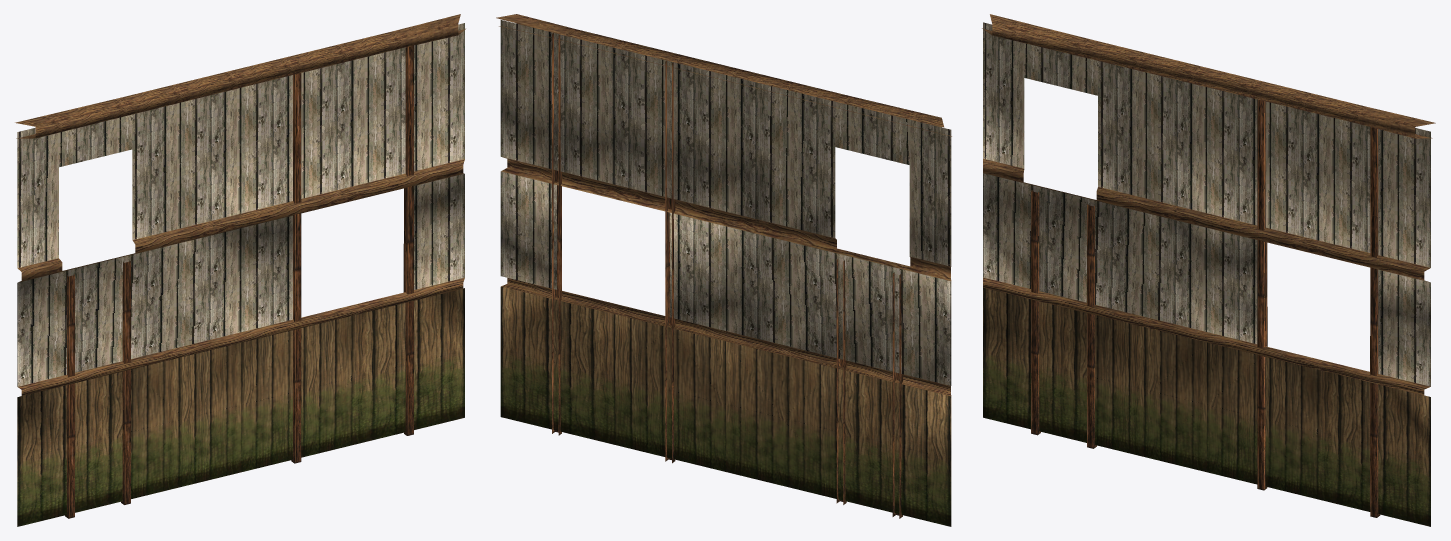
File: LAKETOWN_WAREHOUSE3_PS_WH3_SIDEWALL8877__GX.fbx
3 views of the same model, side by side, from view 1: azimuth 30°, elevation 25°; view 2: azimuth 150°, elevation 25°; view 3: azimuth 330°, elevation 25° (orthographic).
Parts seen in each view (by area): view 1: LAKETOWN_WAREHOUSE3_PS_WH3_SIDEWALL8877__GX; view 2: LAKETOWN_WAREHOUSE3_PS_WH3_SIDEWALL8877__GX; view 3: LAKETOWN_WAREHOUSE3_PS_WH3_SIDEWALL8877__GX.
Boxes of the visible parts, x1,y1,x2,y2 form: LAKETOWN_WAREHOUSE3_PS_WH3_SIDEWALL8877__GX: [15, 14, 465, 526]; LAKETOWN_WAREHOUSE3_PS_WH3_SIDEWALL8877__GX: [496, 14, 951, 526]; LAKETOWN_WAREHOUSE3_PS_WH3_SIDEWALL8877__GX: [982, 14, 1435, 526].
Size of the model in its own units: 160503 by 136952 by 5821.
6 materials, 6 textured.
